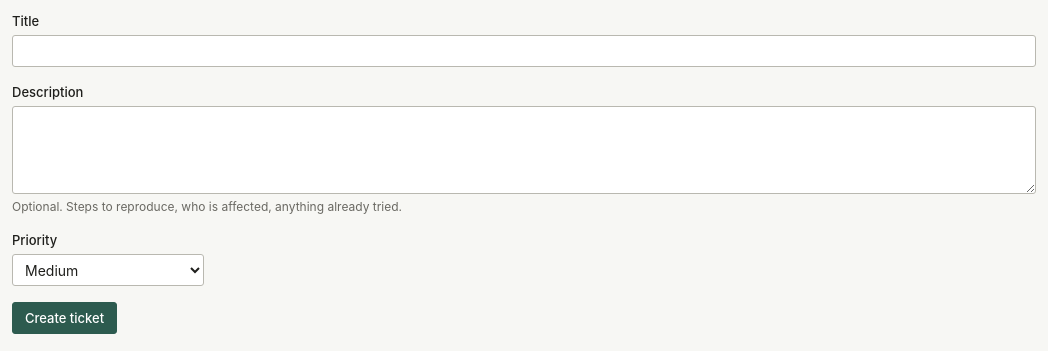
Test: CreateTicketForm › creates the ticket, resets the form and refreshes ticket lists
The width and height of the screenshot is (1048, 351).
Type "  VPN drops  " into the field labelled "Title" at (524, 51), box [12,35,1036,67]
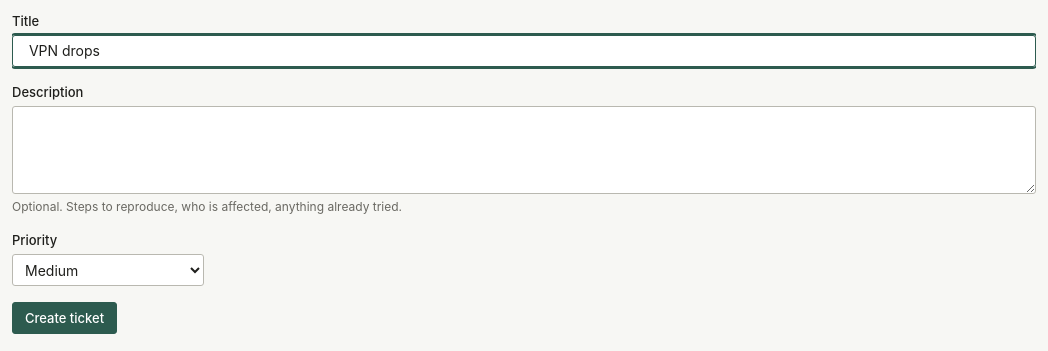
Select "High" in the dropdown labelled "Priority" at (108, 270), box [12,254,204,286]
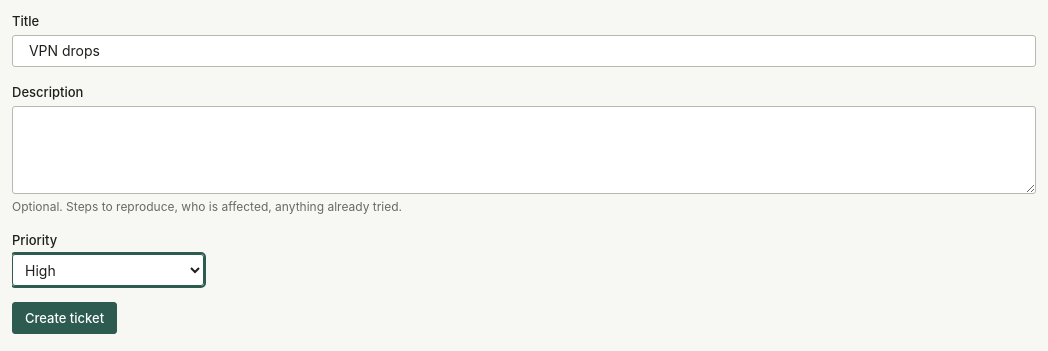
Click the button "Create ticket" at (65, 318), box [12,302,117,334]
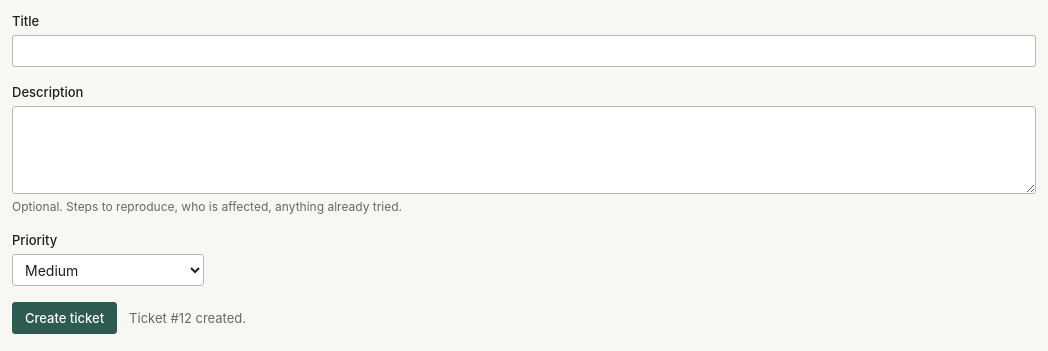
Result: the message reads "Ticket #12 created." at [129,310,246,326]
Result: the field labelled "Title" is empty at [12,35,1036,67]
